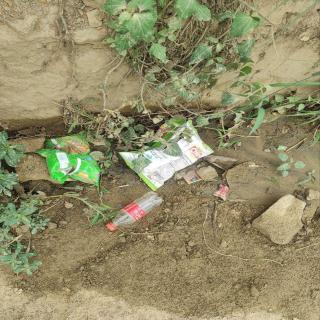Plastic-bottle: (102, 189, 166, 234)
